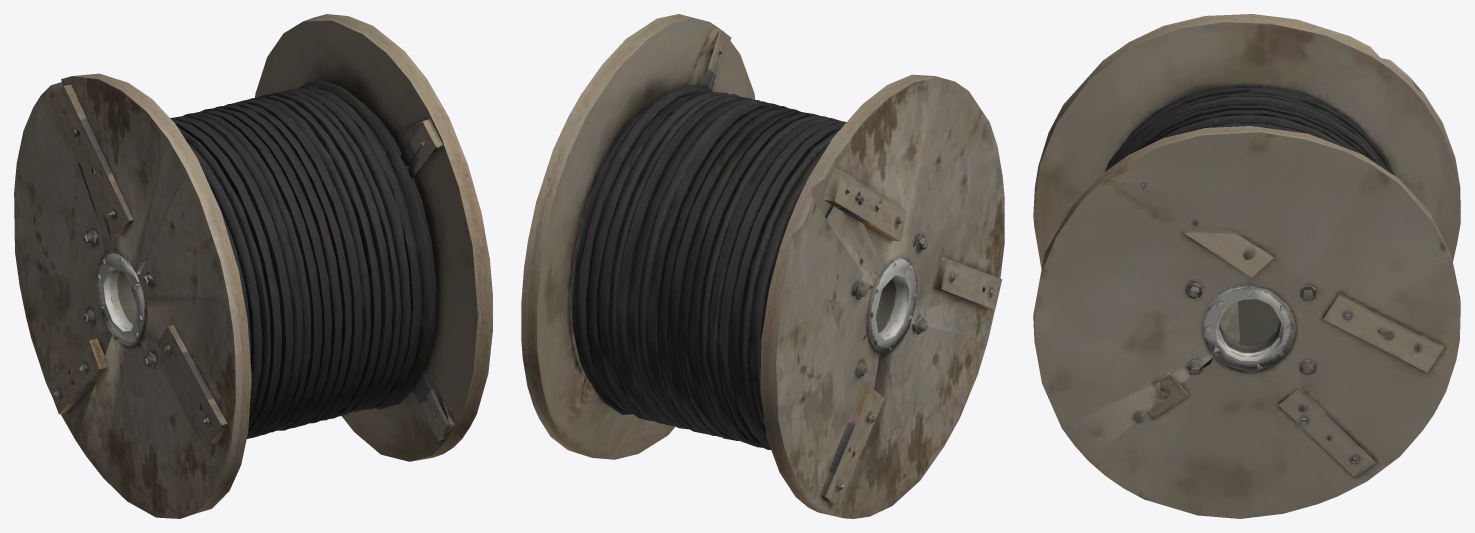
Rendered from reel.glb.
The picture shows the model from 3 angles, left to right: view 1: azimuth 30°, elevation 25°; view 2: azimuth 150°, elevation 25°; view 3: azimuth 270°, elevation 25°; orthographic projection. The views are drawn at different scales.
Visible parts, largest first — view 1: reel; view 2: reel; view 3: reel.
Part boxes in pixels (x1,y1,x2,y2): reel: (14, 14, 492, 518); reel: (521, 14, 1004, 518); reel: (1033, 14, 1460, 518).
Bounding box in the file's own units: 1.02 × 1.4 × 1.4.
Materials: 1 (1 with a texture image).
